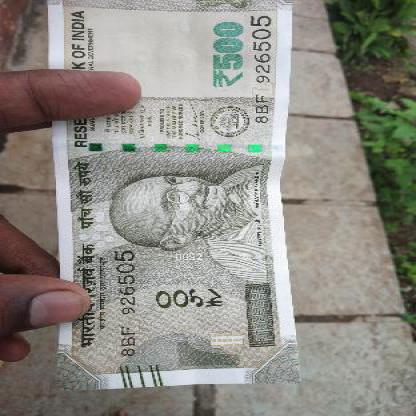New500Front: (47, 0, 297, 386)
